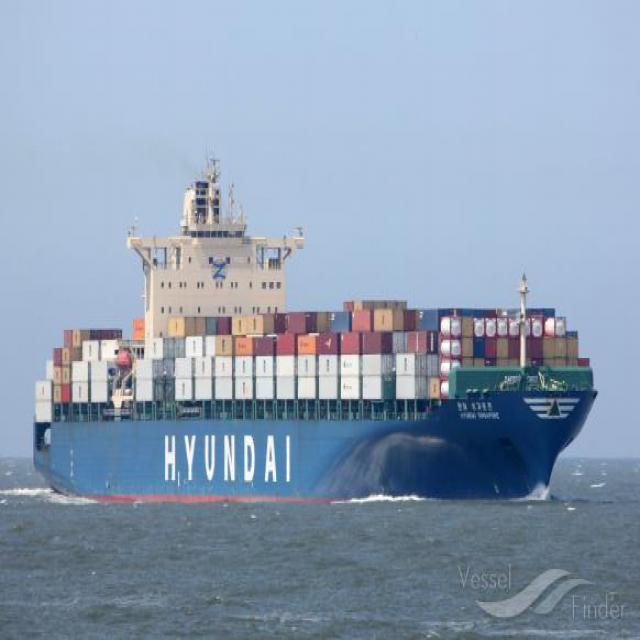Container Ship: (34, 158, 596, 503)
